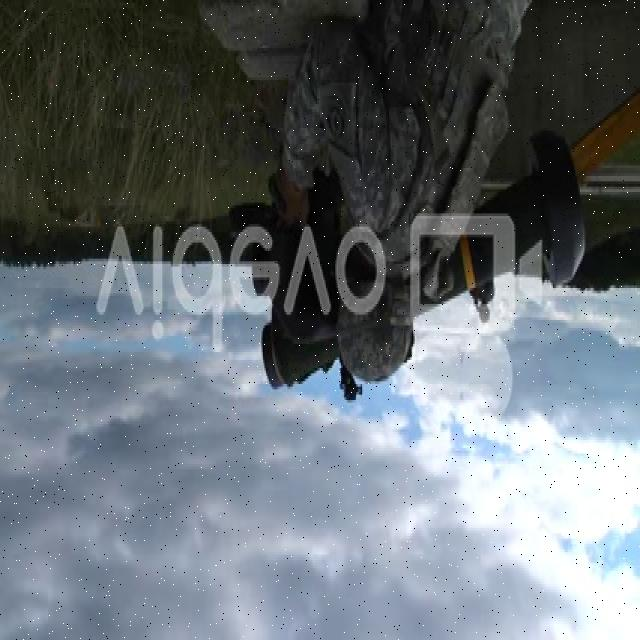bazooka: (262, 125, 596, 399)
